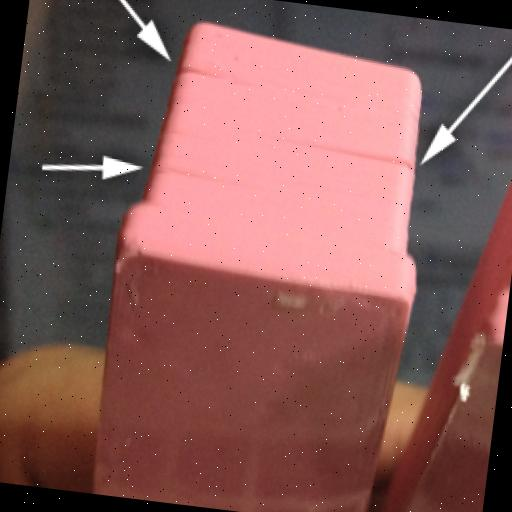cracks: (275, 132, 415, 177), (175, 62, 254, 93), (147, 161, 244, 185)
